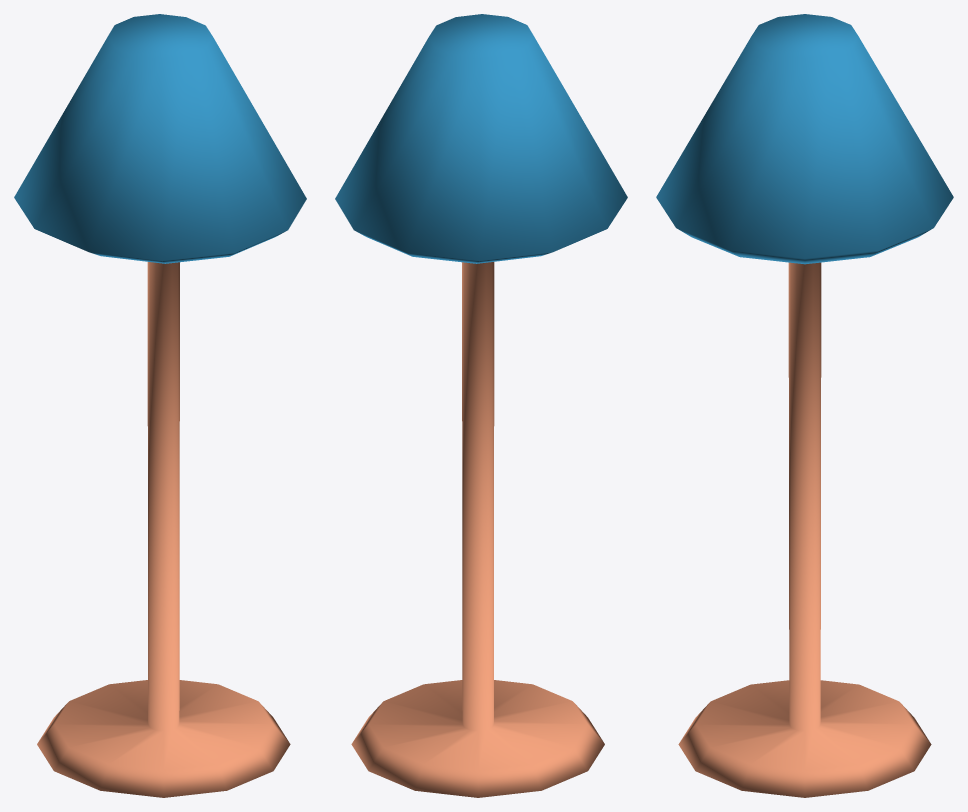
The model's file is Lampada.fbx.
The picture shows the model from 3 angles, left to right: view 1: azimuth 30°, elevation 25°; view 2: azimuth 150°, elevation 25°; view 3: azimuth 270°, elevation 25°; orthographic projection.
Parts seen in each view (by area): view 1: Lampada; view 2: Lampada; view 3: Lampada.
Boxes of the visible parts, bbox=[...] form: Lampada: bbox=[14, 14, 306, 797]; Lampada: bbox=[335, 14, 627, 797]; Lampada: bbox=[656, 14, 953, 797].
Size of the model in its own units: 485 by 1303 by 498.
